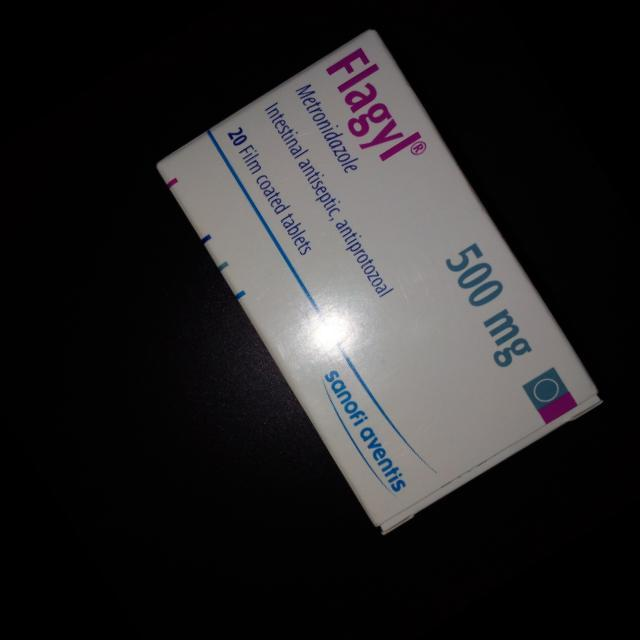Medicine Name: (308, 37, 431, 174)
